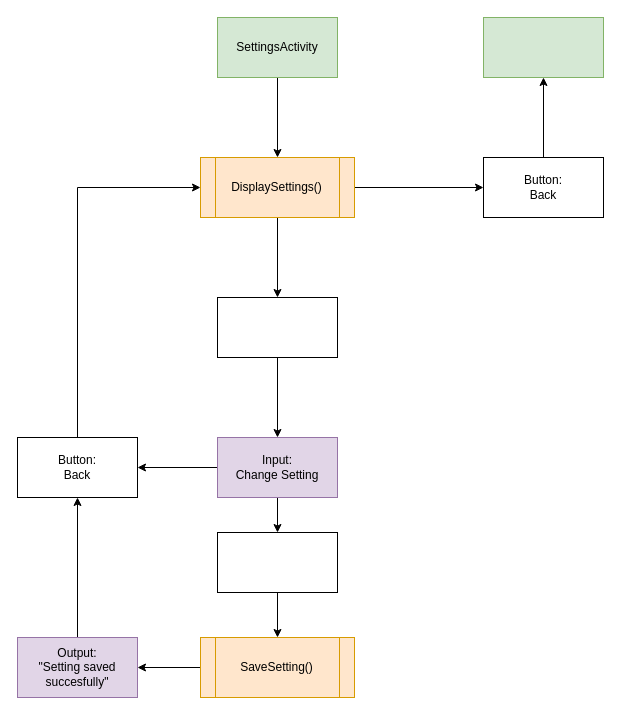
The diagram is 621 pixels wide and 715 high, and some of its shapes have lost their labels. Here are the shapes that lost their labels. From the top down, the centre of each, then its label:
At [543,47]: "MainActivity".
At [277,327]: "Button: Specific Setting".
At [277,562]: "Button: Save".
